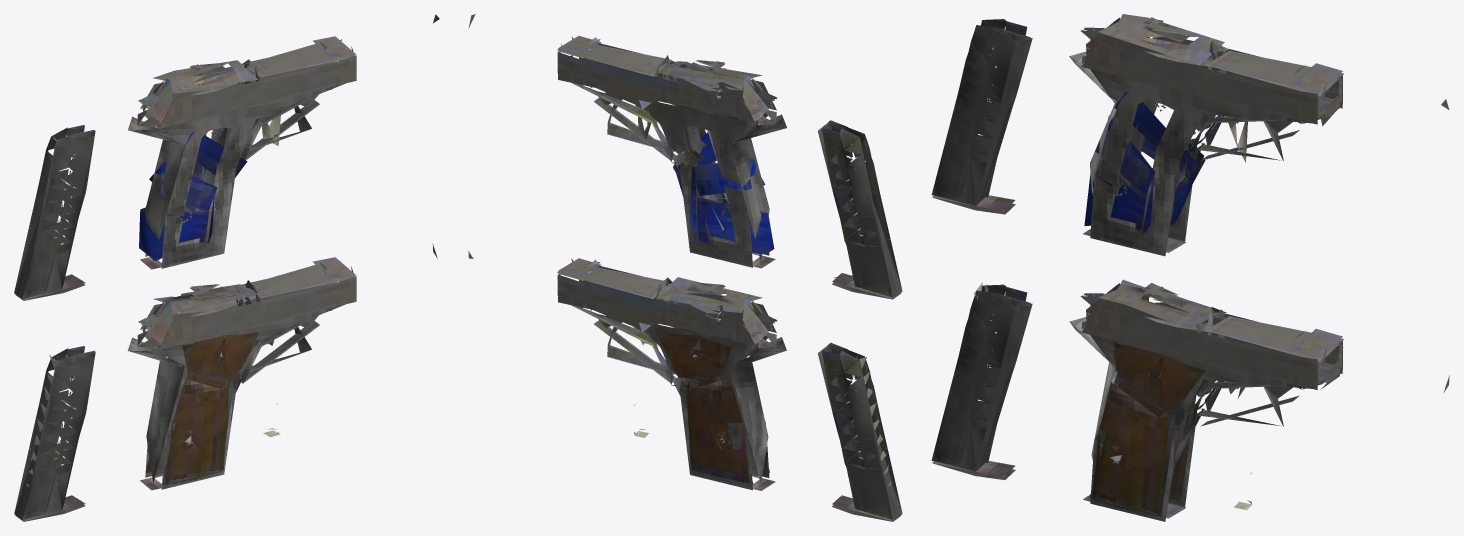
The model's file is service_pistol.glb.
3 renders of one model, left to right at view 1: azimuth 30°, elevation 25°; view 2: azimuth 150°, elevation 25°; view 3: azimuth 330°, elevation 25°, orthographic. The views are drawn at different scales.
Parts seen in each view (by area): view 1: service_pistol_pistol_a; view 2: service_pistol_pistol_a; view 3: service_pistol_pistol_a.
Boxes of the visible parts, x1=… form: service_pistol_pistol_a: x1=14, y1=14, x2=439, y2=521; service_pistol_pistol_a: x1=468, y1=14, x2=902, y2=521; service_pistol_pistol_a: x1=931, y1=14, x2=1449, y2=521.
Size of the model in its own units: 0.2989 by 0.277 by 0.0321.
Materials: 1 (1 with a texture image).
